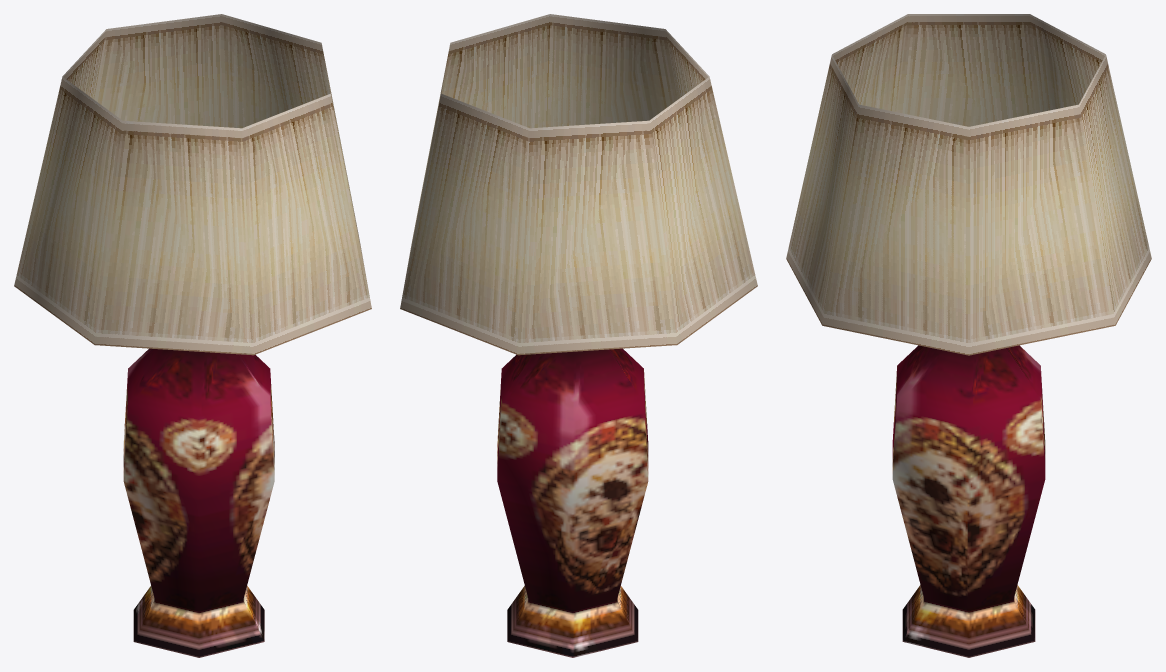
File: vaselamp.fbx
The picture shows the model from 3 angles, left to right: view 1: azimuth 30°, elevation 25°; view 2: azimuth 150°, elevation 25°; view 3: azimuth 270°, elevation 25°; orthographic projection.
Parts seen in each view (by area): view 1: mesh_1, mesh_0; view 2: mesh_1, mesh_0; view 3: mesh_1, mesh_0.
Boxes of the visible parts, bbox=[...] form: mesh_1: bbox=[14, 14, 371, 355]; mesh_0: bbox=[123, 348, 274, 657]; mesh_1: bbox=[400, 14, 757, 355]; mesh_0: bbox=[497, 348, 648, 657]; mesh_1: bbox=[786, 14, 1151, 355]; mesh_0: bbox=[892, 345, 1045, 657].
Bounding box in the file's own units: 42.43 × 73.42 × 43.52.
Materials: 2 (2 with a texture image).
